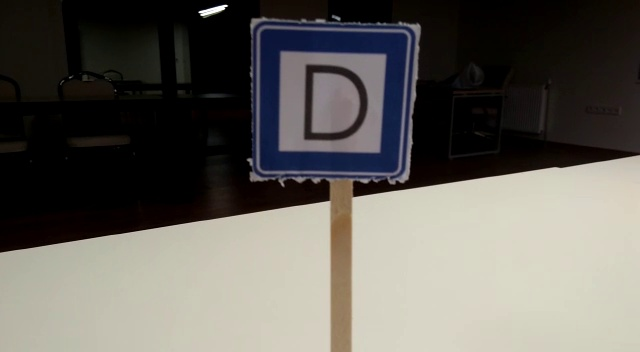durak: (252, 24, 419, 180)
